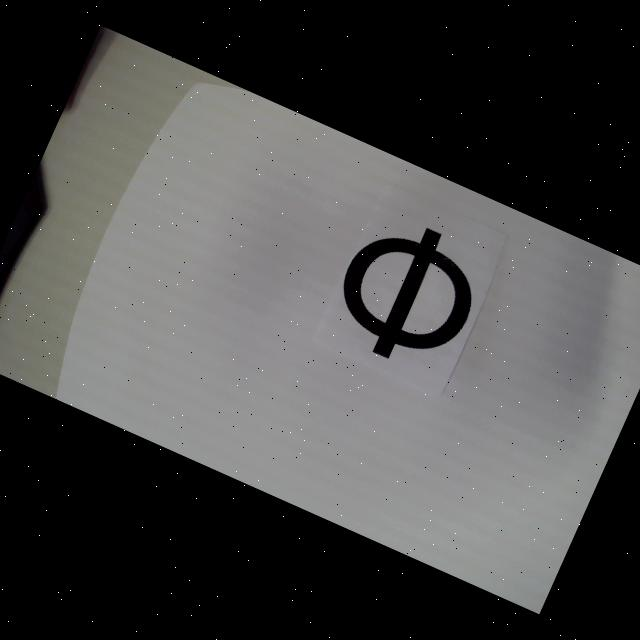PHI: (320, 204, 495, 383)
